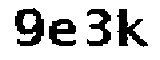3: (83, 6, 113, 56)
9: (11, 5, 46, 50)
e: (43, 17, 81, 49)
k: (112, 7, 149, 53)
